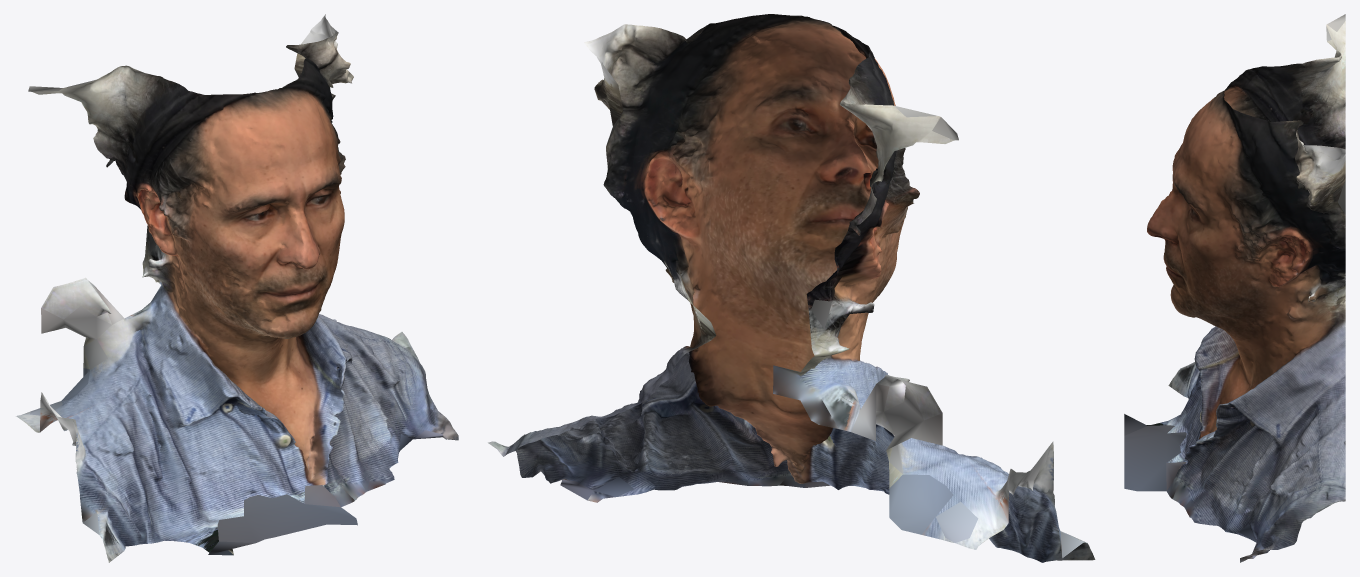
Rendered from Hermes_2.obj.
The picture shows the model from 3 angles, left to right: view 1: azimuth 30°, elevation 25°; view 2: azimuth 150°, elevation 25°; view 3: azimuth 270°, elevation 25°; orthographic projection. The views are drawn at different scales.
Bounding box in the file's own units: 0.3821 × 0.3804 × 0.2014.
1 material, 1 textured.
